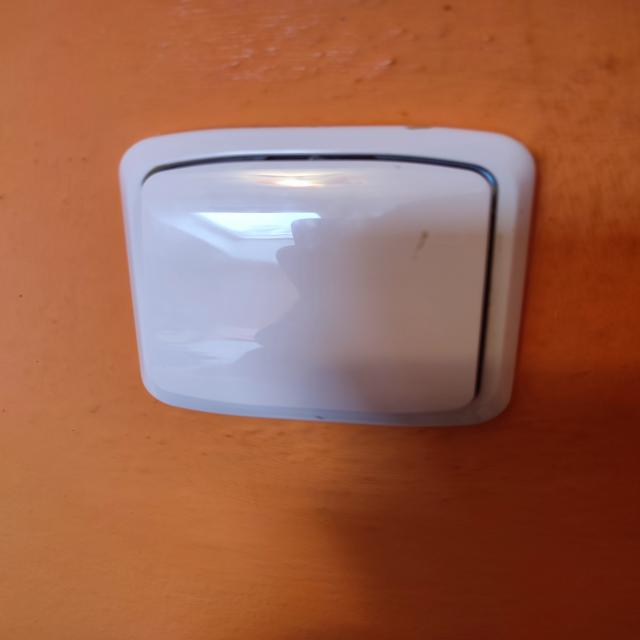house switch: (116, 125, 535, 427)
